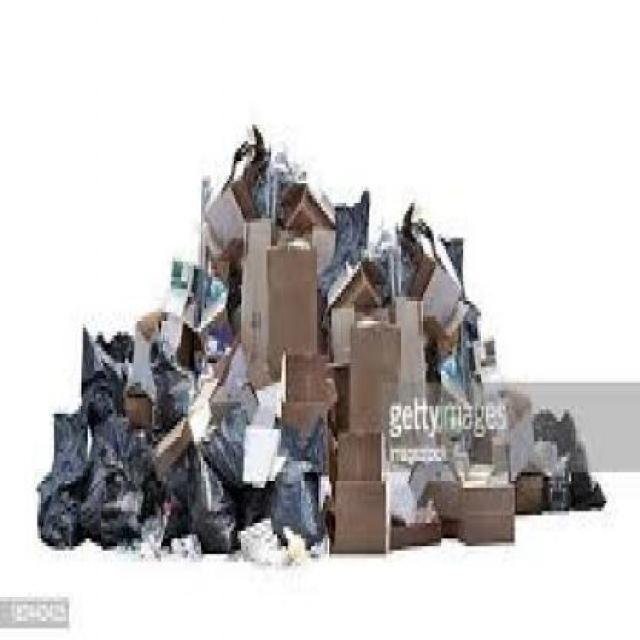garbage: (201, 192, 504, 426), (54, 414, 582, 531), (82, 157, 293, 426)
